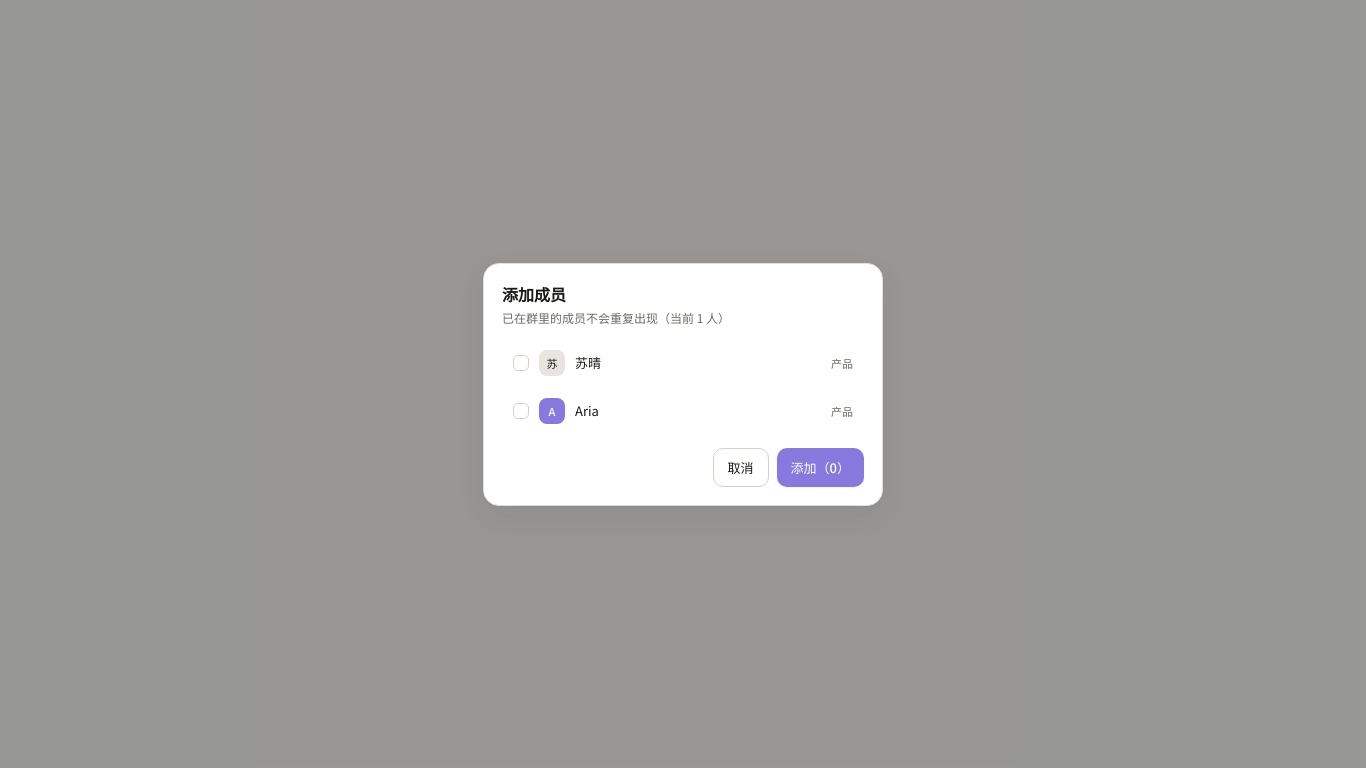
Scenario: 添加成员 › 没选人时提交按钮不可用，选了就可用并显示个数
Expected: the button "添加（0）" is disabled, [777, 448, 864, 486]
Click the text "苏晴": (588, 362) [575, 353, 601, 372]
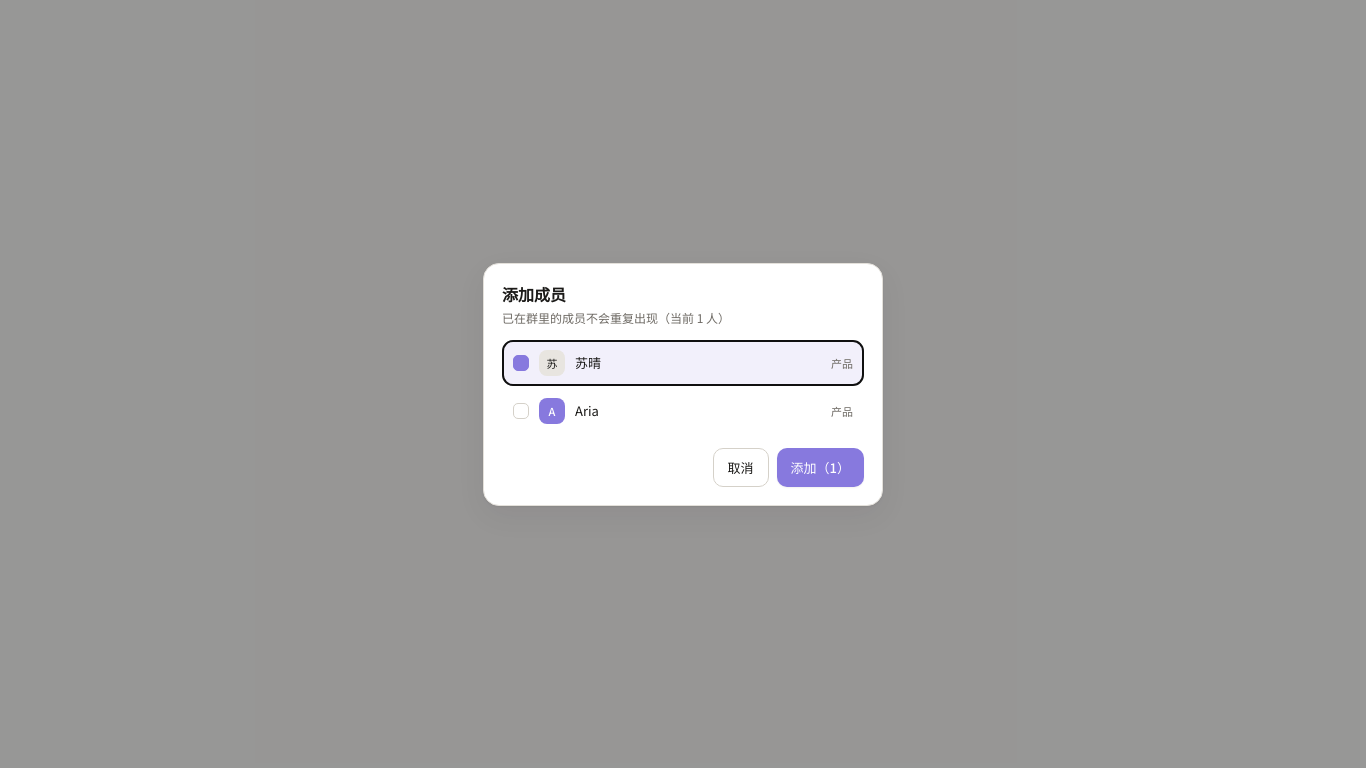
Now the button "添加（1）" is enabled, box [777, 448, 864, 486]
